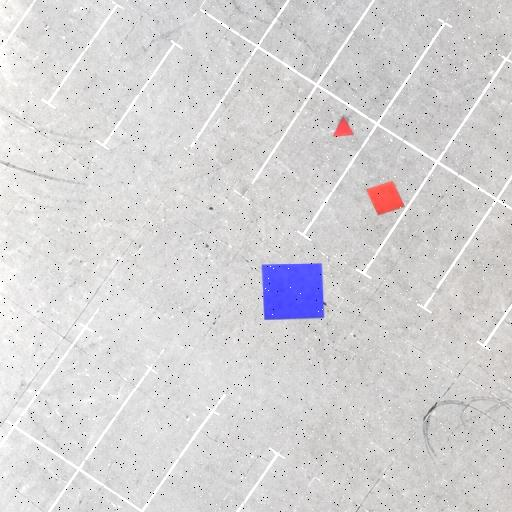BLUE_SQUARE: (262, 263, 324, 321)
RED_SQUARE: (366, 181, 406, 216)
